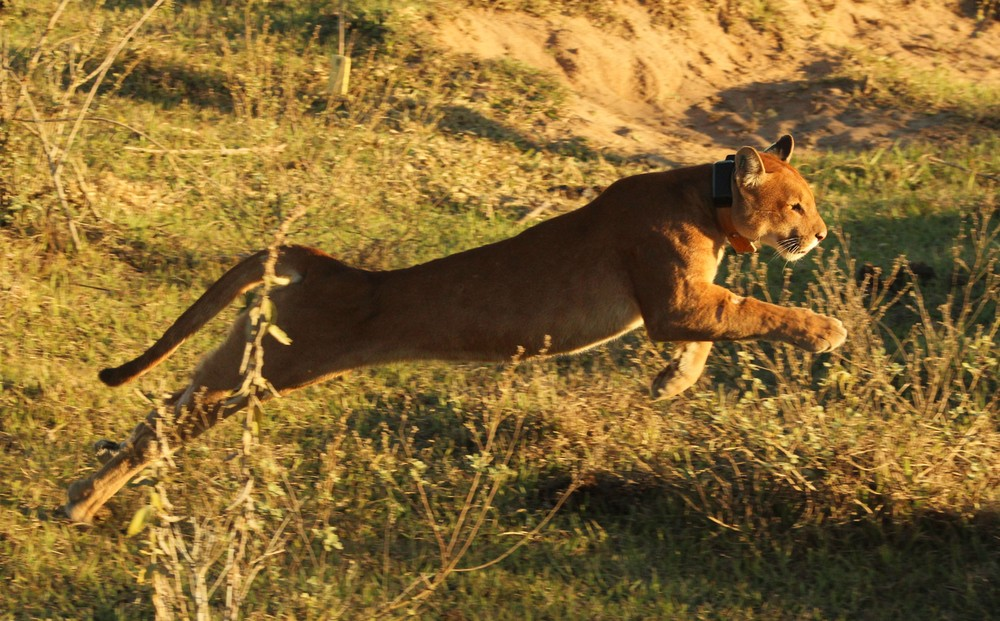OncaParda: (83, 121, 847, 511)
